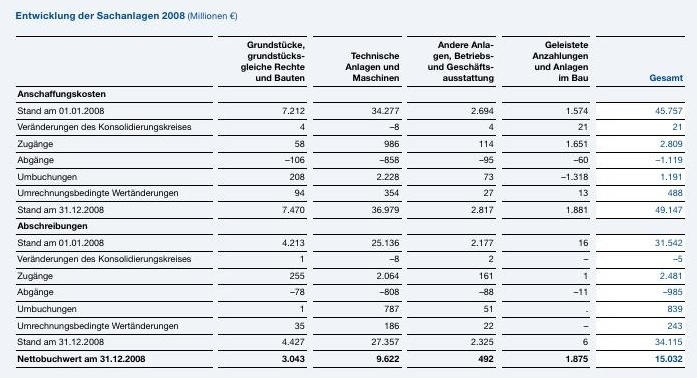table: (0, 0, 697, 378)
